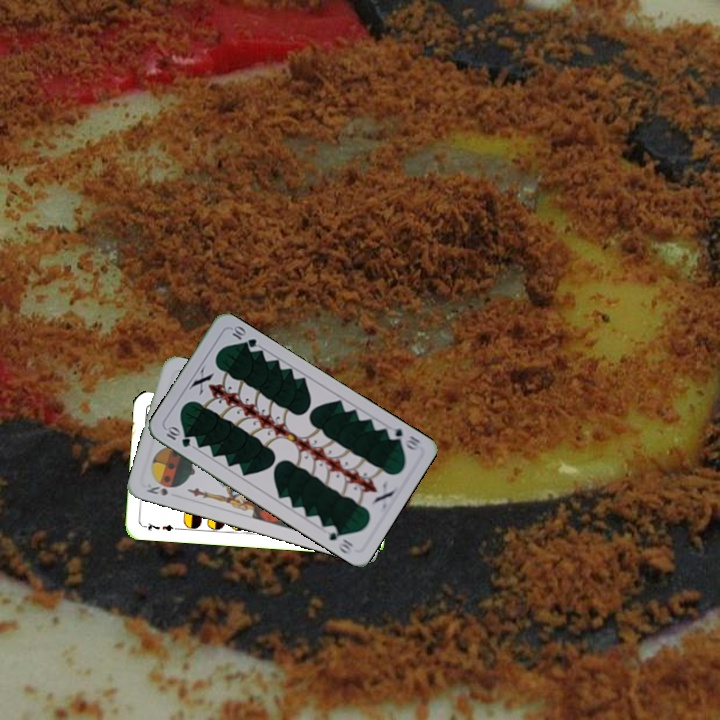E7: (140, 519, 180, 534)
G10: (383, 422, 423, 453), (162, 422, 193, 450)
SK: (141, 480, 170, 498)
